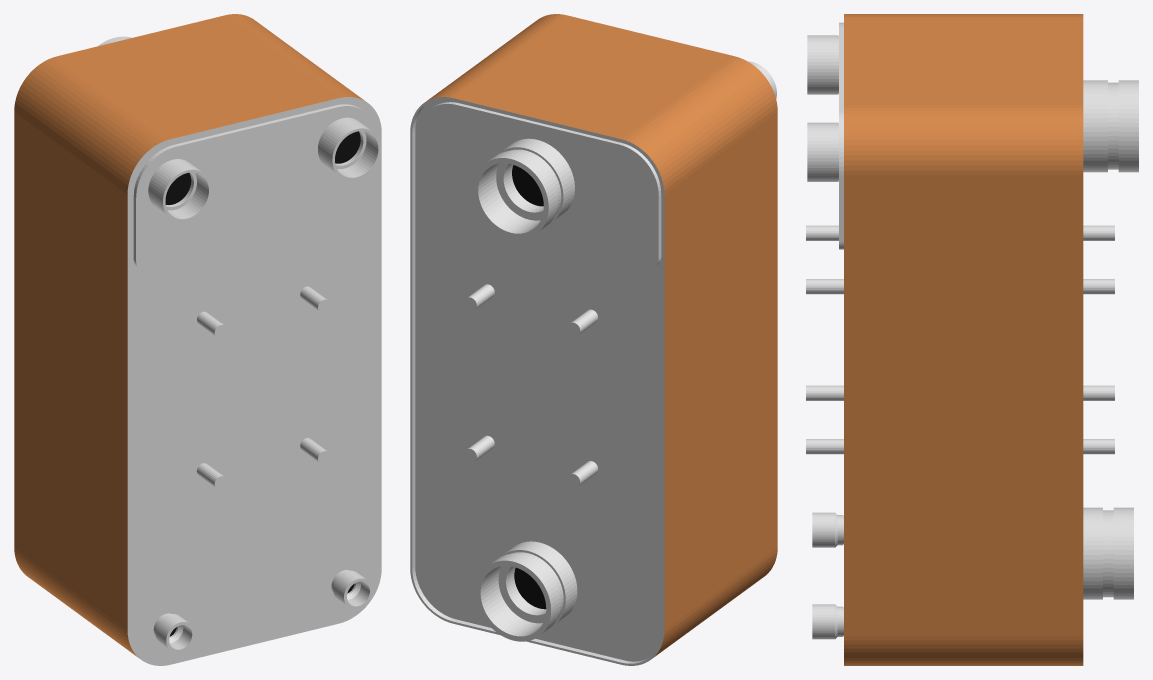
File: T26001_9088_C117L_EZD_B_110_v03.glb
The picture shows the model from 3 angles, left to right: view 1: azimuth 30°, elevation 25°; view 2: azimuth 150°, elevation 25°; view 3: azimuth 270°, elevation 25°; orthographic projection. The views are drawn at different scales.
Visible parts, largest first — view 1: T26001_9088_C117L_EZD_B_110, Cylinder.002, Cylinder.003; view 2: T26001_9088_C117L_EZD_B_110, Cylinder.001, Cylinder; view 3: T26001_9088_C117L_EZD_B_110.
Boxes of the visible parts, x1,y1,x2,y2 form: T26001_9088_C117L_EZD_B_110: (14,14,381,665); Cylinder.002: (165,172,191,204); Cylinder.003: (335,131,360,163); T26001_9088_C117L_EZD_B_110: (410,14,777,665); Cylinder.001: (514,567,546,609); Cylinder: (512,165,543,206); T26001_9088_C117L_EZD_B_110: (806,14,1138,665).
Size of the model in its own units: 3.92 by 7.75 by 4.21.
